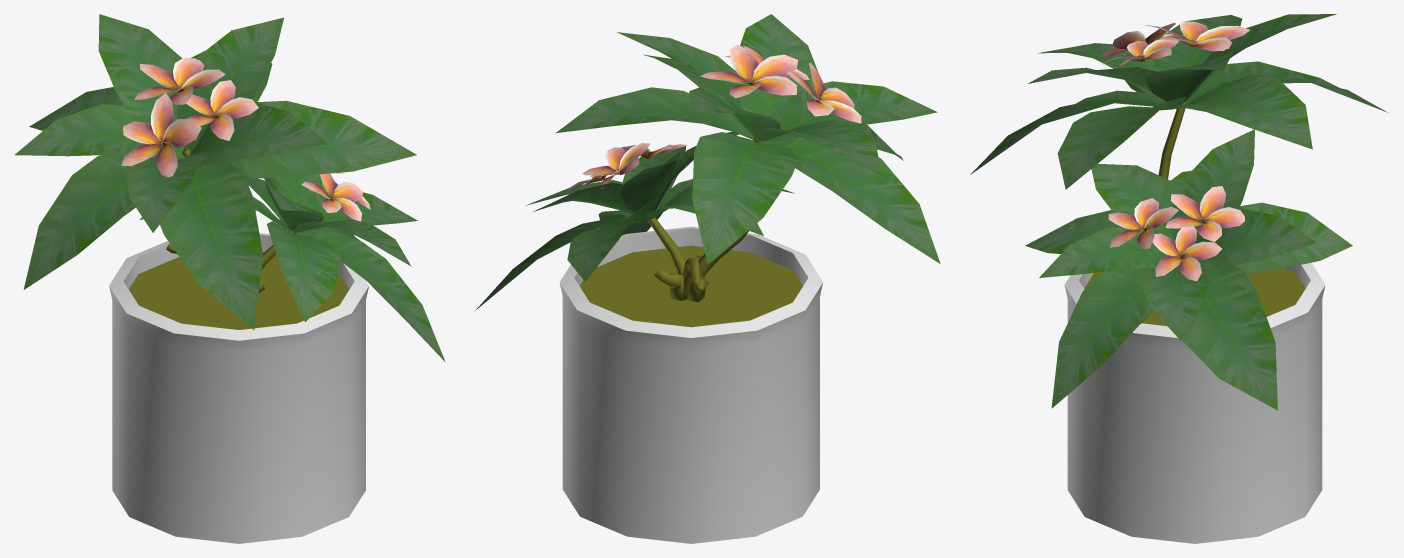
File: p_plant_med_flower.glb
3 renders of one model, left to right at view 1: azimuth 30°, elevation 25°; view 2: azimuth 150°, elevation 25°; view 3: azimuth 270°, elevation 25°, orthographic.
Parts seen in each view (by area): view 1: Object_5, Object_4, Object_6, Object_3; view 2: Object_4, Object_5, Object_3, Object_6, Object_2; view 3: Object_5, Object_4, Object_6, Object_3, Object_2.
Boxes of the visible parts, x1,y1,x2,y2 form: Object_5: [15, 14, 445, 361]; Object_4: [109, 233, 368, 543]; Object_6: [121, 58, 370, 221]; Object_3: [129, 252, 349, 329]; Object_4: [559, 226, 822, 543]; Object_5: [475, 14, 940, 310]; Object_3: [579, 245, 802, 327]; Object_6: [569, 44, 861, 189]; Object_2: [648, 137, 760, 302]; Object_5: [970, 14, 1388, 410]; Object_4: [1064, 262, 1325, 543]; Object_6: [1101, 21, 1249, 281]; Object_3: [1084, 268, 1305, 325]; Object_2: [1158, 101, 1185, 257].
Size of the model in its own units: 0.8408 by 0.9115 by 0.7551.
Materials: 4 (2 with a texture image).
